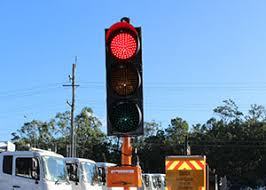red: (100, 21, 149, 144), (104, 28, 144, 137)
